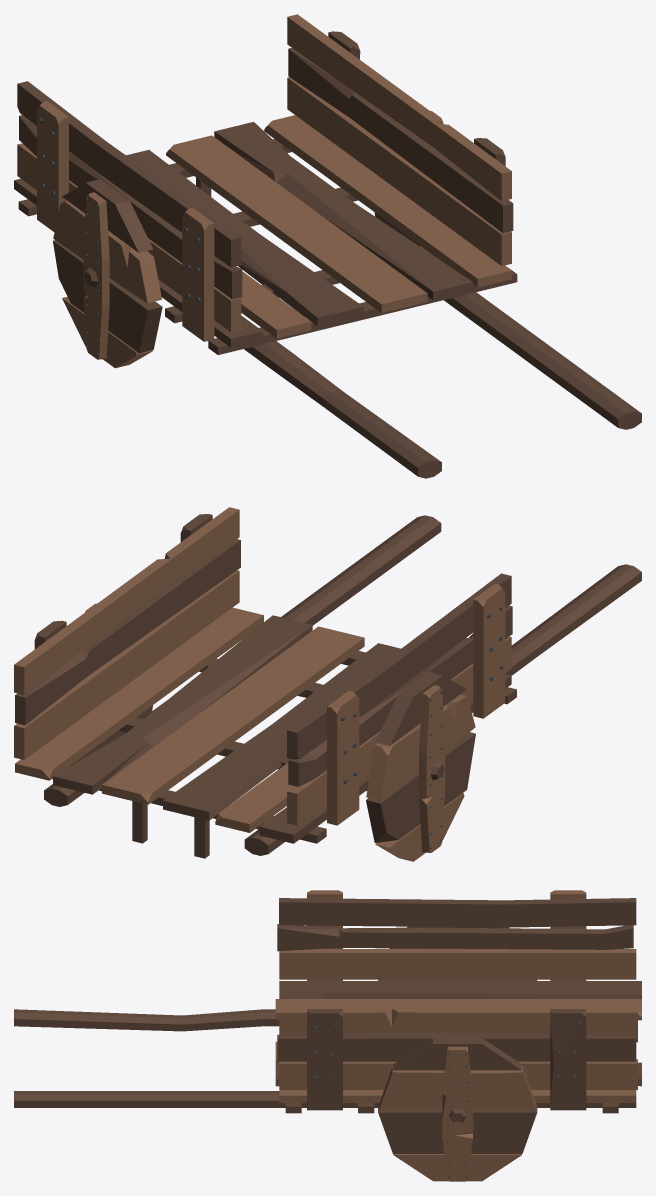
The model's file is Cart_1  Asia.fbx.
3 renders of one model, top to bottom at view 1: azimuth 30°, elevation 25°; view 2: azimuth 150°, elevation 25°; view 3: azimuth 270°, elevation 25°, orthographic. The views are drawn at different scales.
Parts seen in each view (by area): view 1: Cart_1; view 2: Cart_1; view 3: Cart_1.
Boxes of the visible parts, x1,y1,x2,y2 form: Cart_1: [14, 14, 641, 478]; Cart_1: [14, 507, 641, 861]; Cart_1: [14, 890, 641, 1181].
Bounding box in the file's own units: 1.84 × 0.9694 × 3.39.
